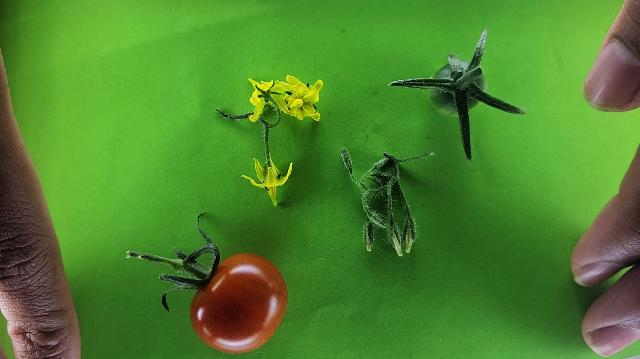Anthesis: (241, 156, 293, 208), (275, 74, 322, 121), (246, 77, 283, 123)
Flower Bud: (391, 226, 403, 256), (406, 228, 413, 251), (365, 230, 372, 252)
Fruit Maturation: (426, 60, 484, 117)
Fully Grown: (190, 253, 289, 355)
